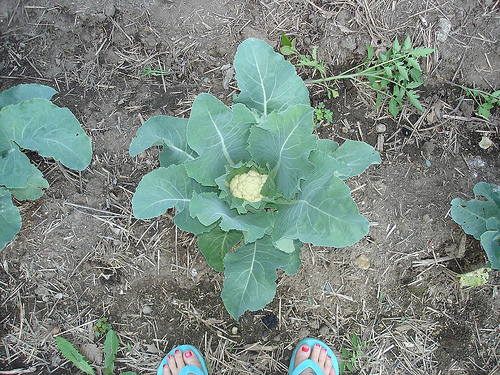cauliflower: (228, 168, 272, 205)
